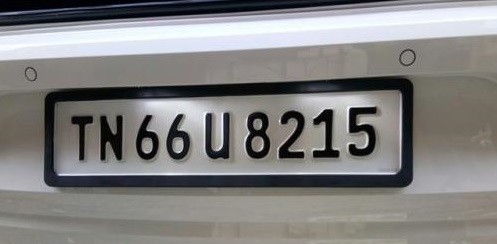TN66U8215: (52, 89, 401, 176)
